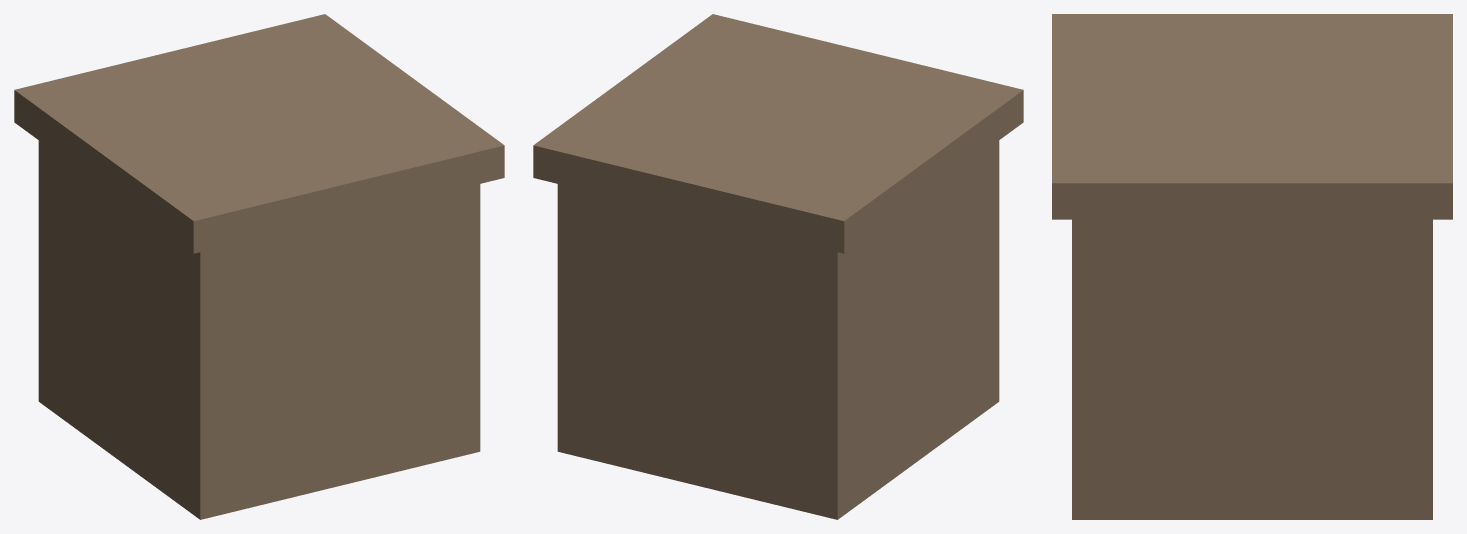
Rendered from crate.glb.
3 renders of one model, left to right at view 1: azimuth 30°, elevation 25°; view 2: azimuth 150°, elevation 25°; view 3: azimuth 270°, elevation 25°, orthographic. The views are drawn at different scales.
Visible parts, largest first — view 1: crate; view 2: crate; view 3: crate.
Boxes of the visible parts, bbox=[...] form: crate: bbox=[14, 14, 504, 519]; crate: bbox=[533, 14, 1023, 519]; crate: bbox=[1052, 14, 1452, 519].
Bounding box in the file's own units: 1 × 0.95 × 1.
